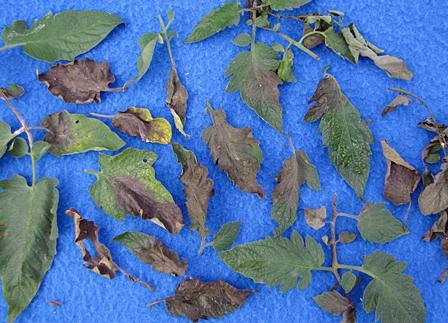Tomato leaf late blight: (0, 163, 66, 323), (84, 147, 183, 244), (304, 71, 376, 196), (202, 233, 327, 289), (222, 37, 288, 132), (200, 101, 266, 194), (165, 139, 220, 237), (264, 139, 315, 235), (102, 227, 191, 280), (37, 106, 123, 159), (182, 3, 248, 43)
